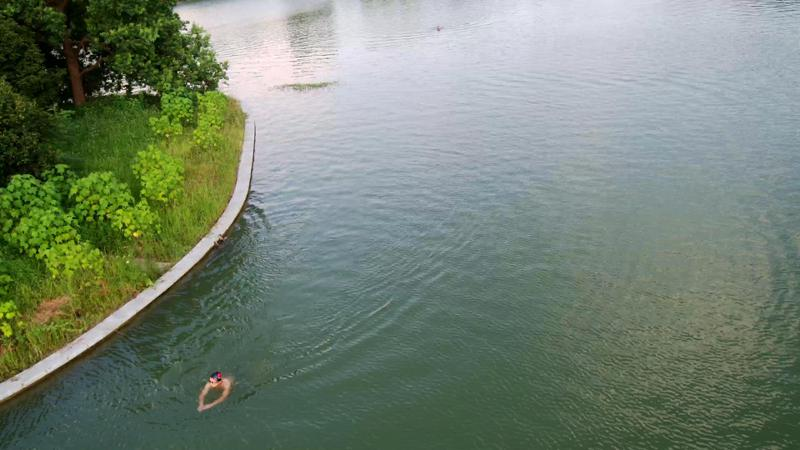swimmers: (195, 370, 235, 413)
